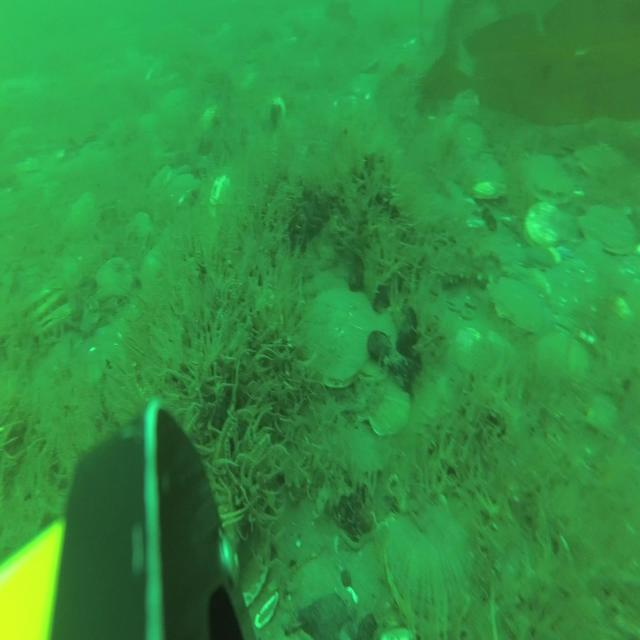holothurian: (429, 243, 503, 288)
scallop: (385, 488, 481, 631), (300, 282, 382, 394), (336, 537, 396, 636), (296, 558, 352, 640), (490, 274, 551, 340), (544, 253, 600, 318), (536, 332, 590, 398), (583, 198, 637, 261), (356, 308, 400, 385), (365, 374, 410, 442), (522, 150, 574, 208), (525, 196, 571, 251), (343, 420, 383, 475), (468, 158, 508, 203), (96, 256, 134, 302), (575, 142, 616, 184), (584, 394, 617, 436), (31, 290, 64, 332), (37, 305, 70, 347), (454, 125, 486, 166), (126, 212, 154, 255), (451, 88, 481, 124), (23, 280, 51, 314)
